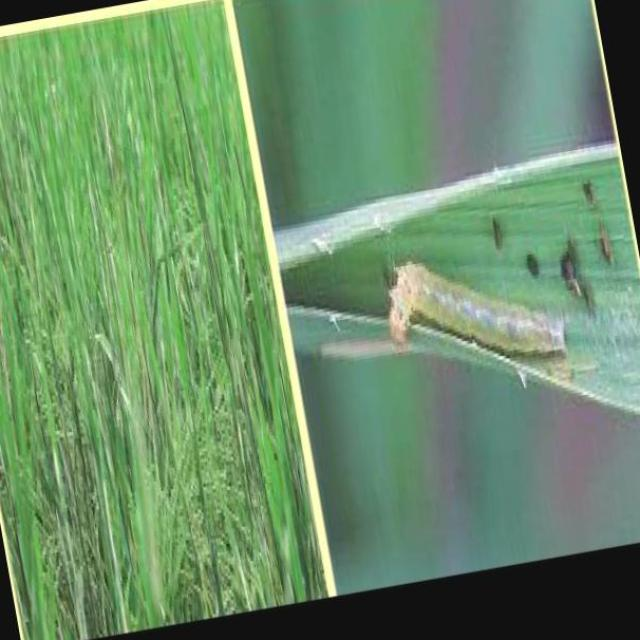leaf folder: (389, 262, 569, 378)
